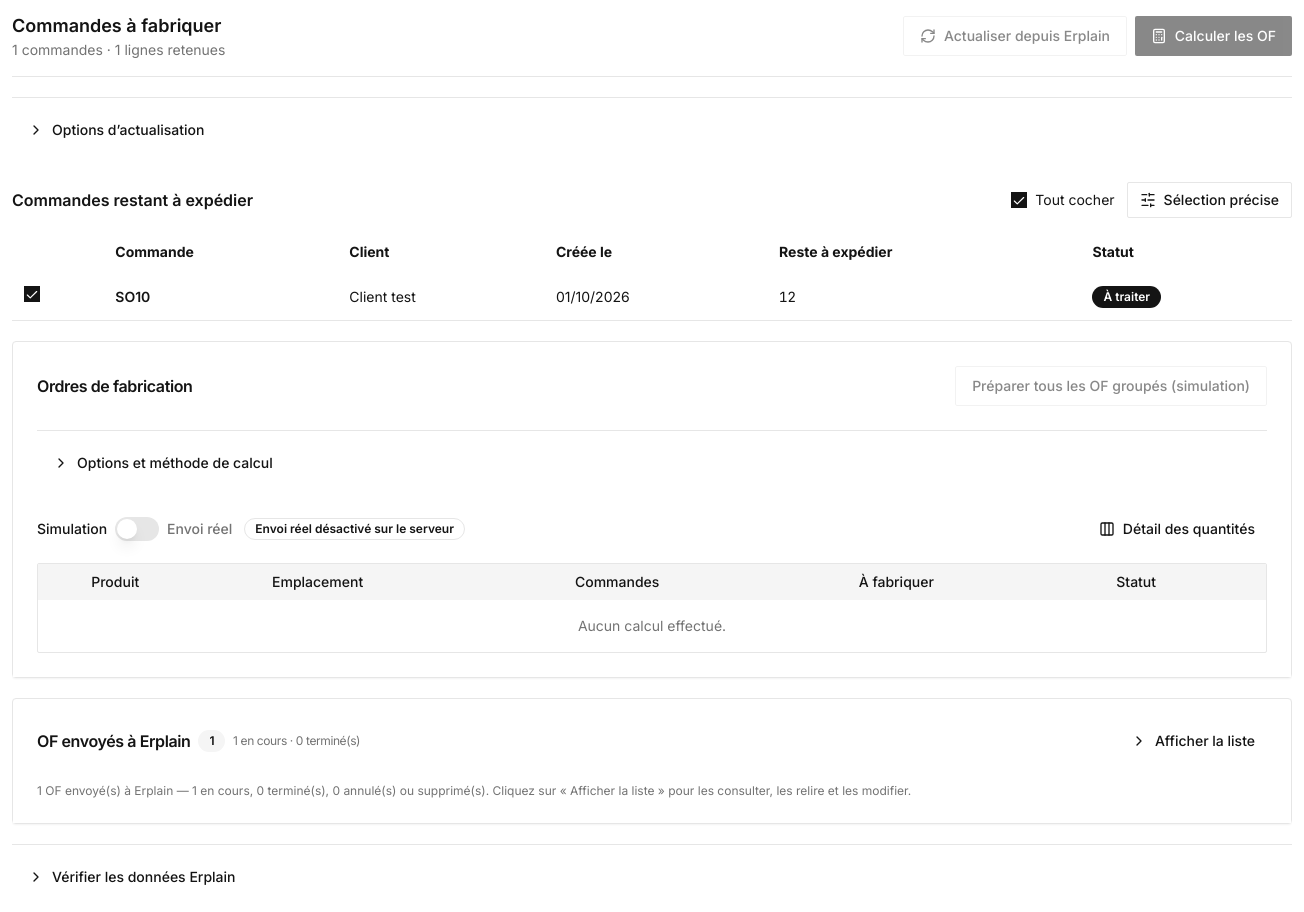
it: Workshop order columns › keeps read-only actions disabled but allows opening details
Expected: the text "Client test" is shown, [337,274,544,320]
Expected: the button "Calculer les OF" is disabled, [1135,16,1292,56]
Step 1. Click the button "Sélection précise" → (1209, 200), box [1127,182,1292,218]
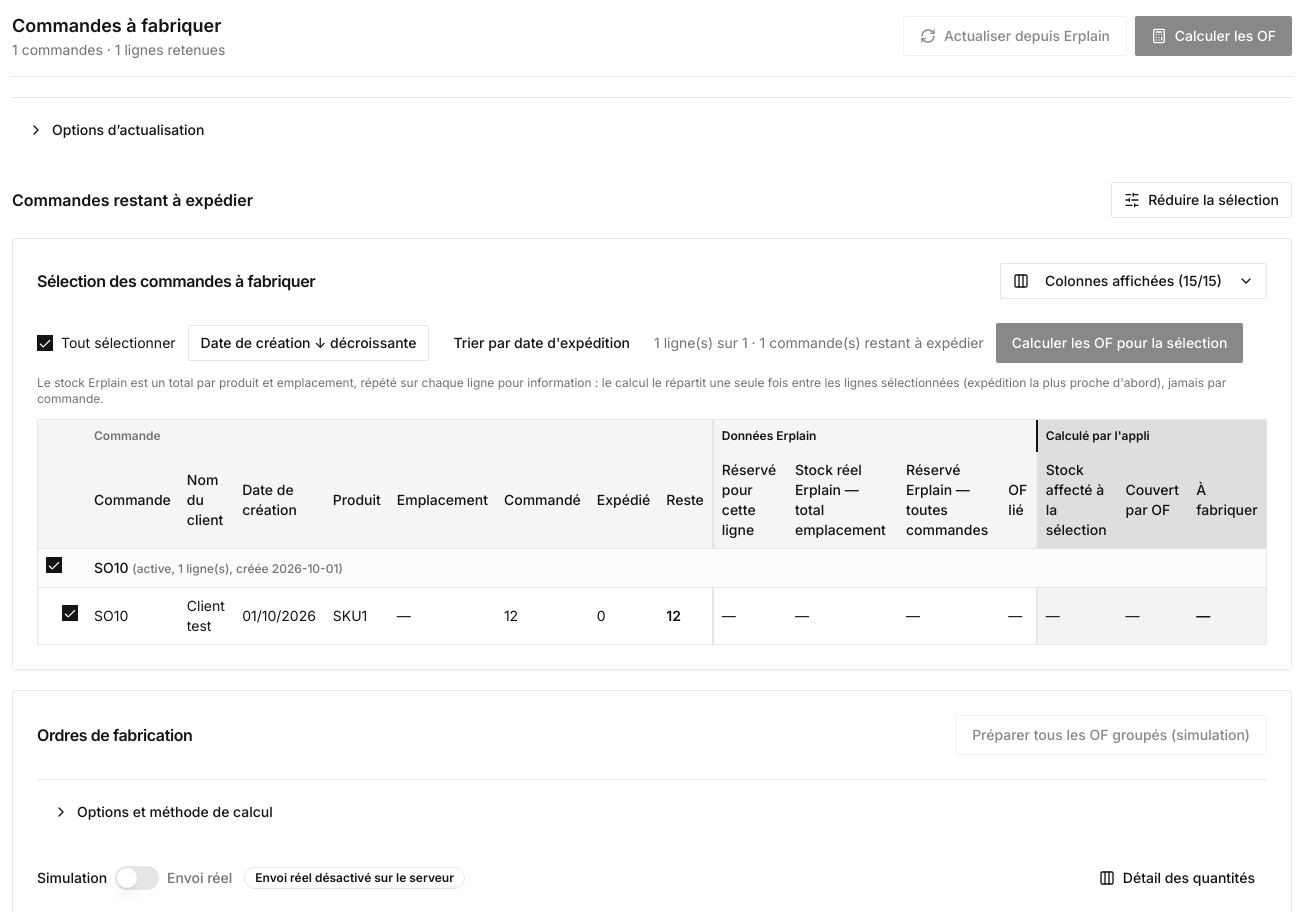
Now the button "Colonnes affichées (15/15)" is shown, box [1000,263,1267,299]
